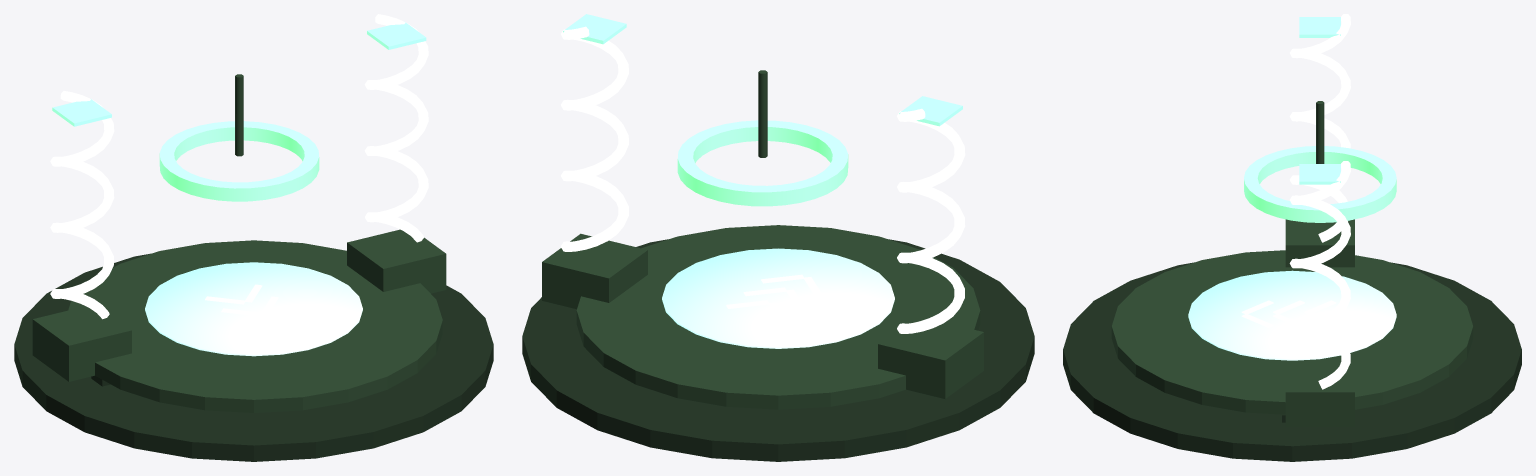
The model's file is SpringJumpPad_Roblox.fbx.
3 renders of one model, left to right at view 1: azimuth 30°, elevation 25°; view 2: azimuth 150°, elevation 25°; view 3: azimuth 270°, elevation 25°, orthographic. The views are drawn at different scales.
Visible parts, largest first — view 1: TrimPlate, DarkPlate, BoostPad, AccentNeon, EnergyGlass, EnergyGlow; view 2: TrimPlate, DarkPlate, BoostPad, AccentNeon, EnergyGlass, EnergyGlow; view 3: TrimPlate, DarkPlate, BoostPad, AccentNeon, EnergyGlass, EnergyGlow.
Part boxes in pixels (x1,y1,x2,y2): TrimPlate: (32,74,446,412); DarkPlate: (14,253,493,461); BoostPad: (145,262,362,356); AccentNeon: (50,14,428,328); EnergyGlass: (159,121,319,201); EnergyGlow: (52,22,426,126); TrimPlate: (542,70,983,409); DarkPlate: (522,239,1034,461); BoostPad: (662,248,894,348); AccentNeon: (561,26,965,333); EnergyGlass: (677,120,848,206); EnergyGlow: (563,14,962,126); TrimPlate: (1111,101,1473,426); DarkPlate: (1063,262,1521,461); BoostPad: (1188,270,1396,360); AccentNeon: (1241,14,1350,389); EnergyGlass: (1244,146,1396,222); EnergyGlow: (1299,17,1340,184).
Bounding box in the file's own units: 1320 × 882 × 1320.
